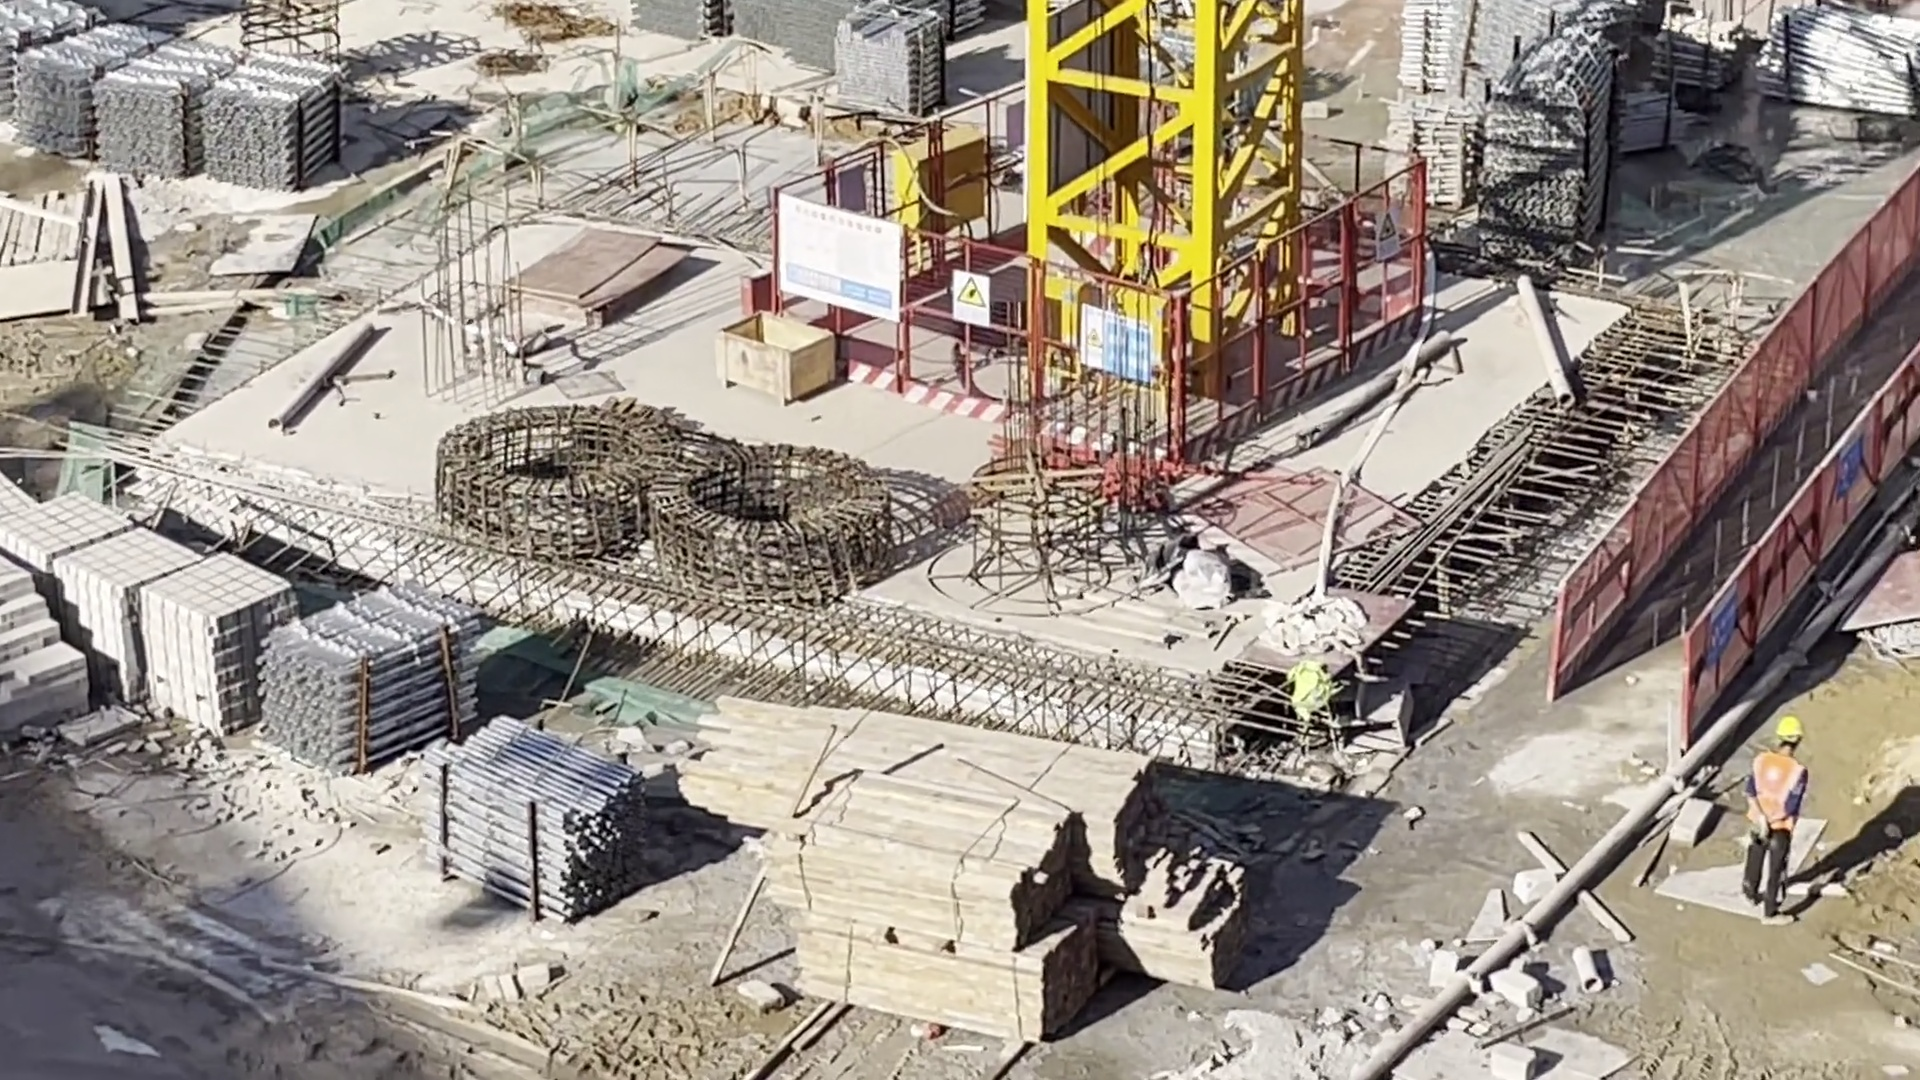board: (506, 231, 681, 322)
brick: (1, 488, 281, 720)
ebox: (900, 133, 982, 245)
fence: (1570, 164, 1920, 732)
helmet: (1775, 715, 1804, 734)
person: (1743, 716, 1805, 914)
scaffold: (435, 718, 650, 919), (262, 588, 471, 766), (1481, 37, 1605, 250), (10, 1, 163, 147), (648, 1, 992, 58), (1404, 1, 1628, 89), (205, 55, 340, 193), (92, 39, 227, 172), (1765, 8, 1919, 122), (833, 1, 943, 123), (1381, 93, 1481, 212), (1648, 7, 1740, 88)
slogan: (1081, 312, 1152, 381), (1709, 590, 1742, 666), (950, 272, 990, 327), (1838, 430, 1862, 496), (1375, 212, 1400, 264)
vest: (1747, 750, 1801, 837)
wood: (702, 700, 1159, 904), (797, 787, 1105, 1034)
